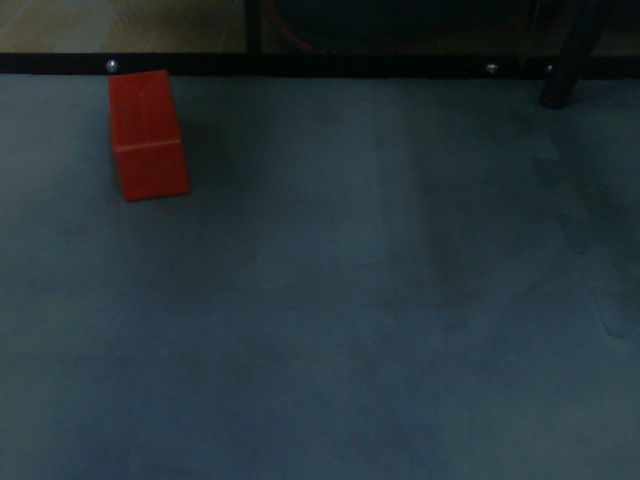RedSample: (104, 68, 194, 205)
